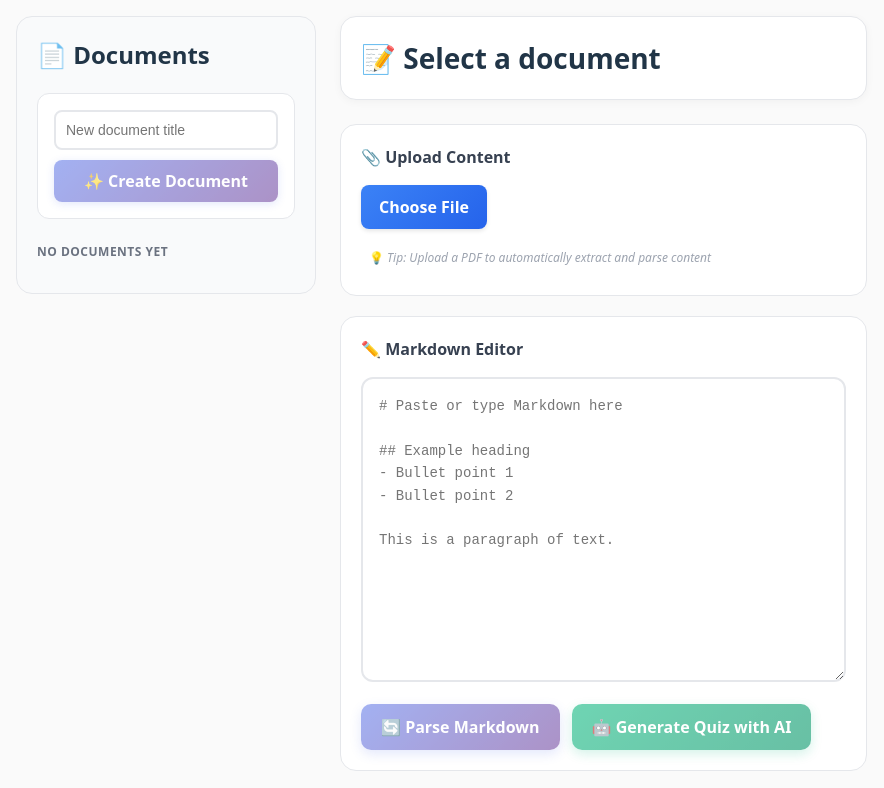
Test: Documents Page › handles document creation error
Type "New Document" into the field with placeholder "New document title" at (166, 130), box [54,110,278,150]
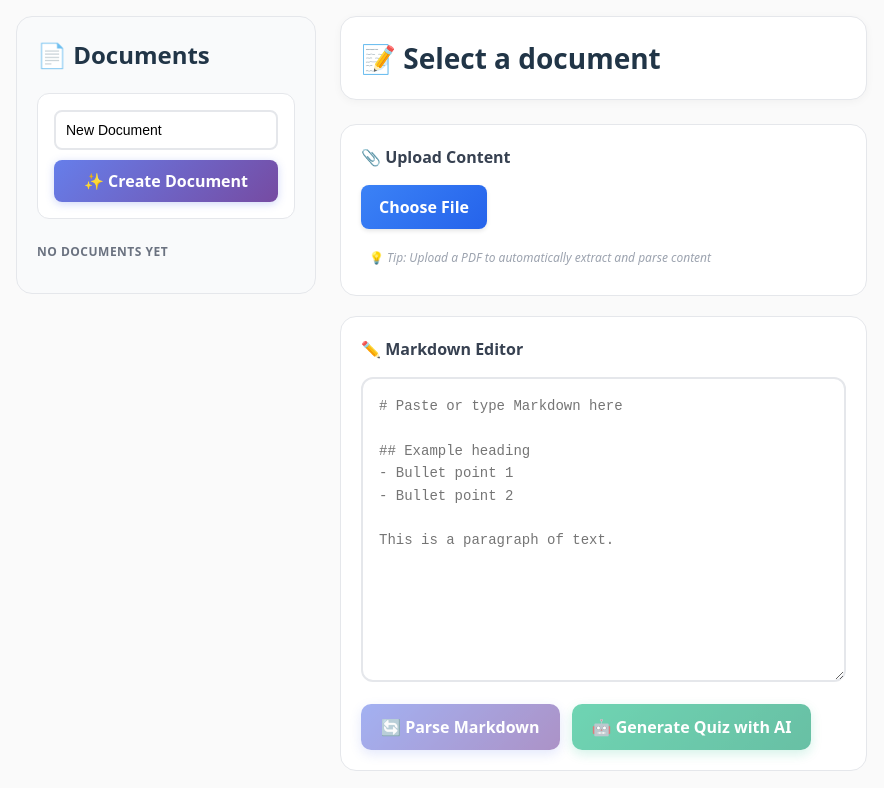
Click the button "✨ Create Document" at (166, 181), box [54,160,278,202]
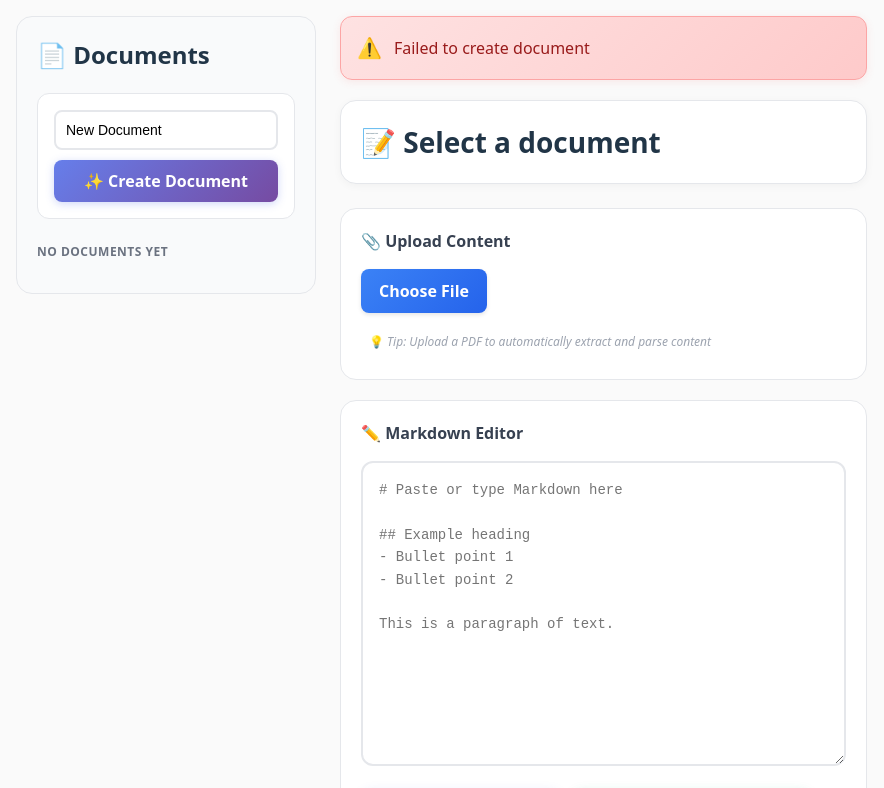
Check: the text "Failed to create document" is shown, box [394,36,590,60]
